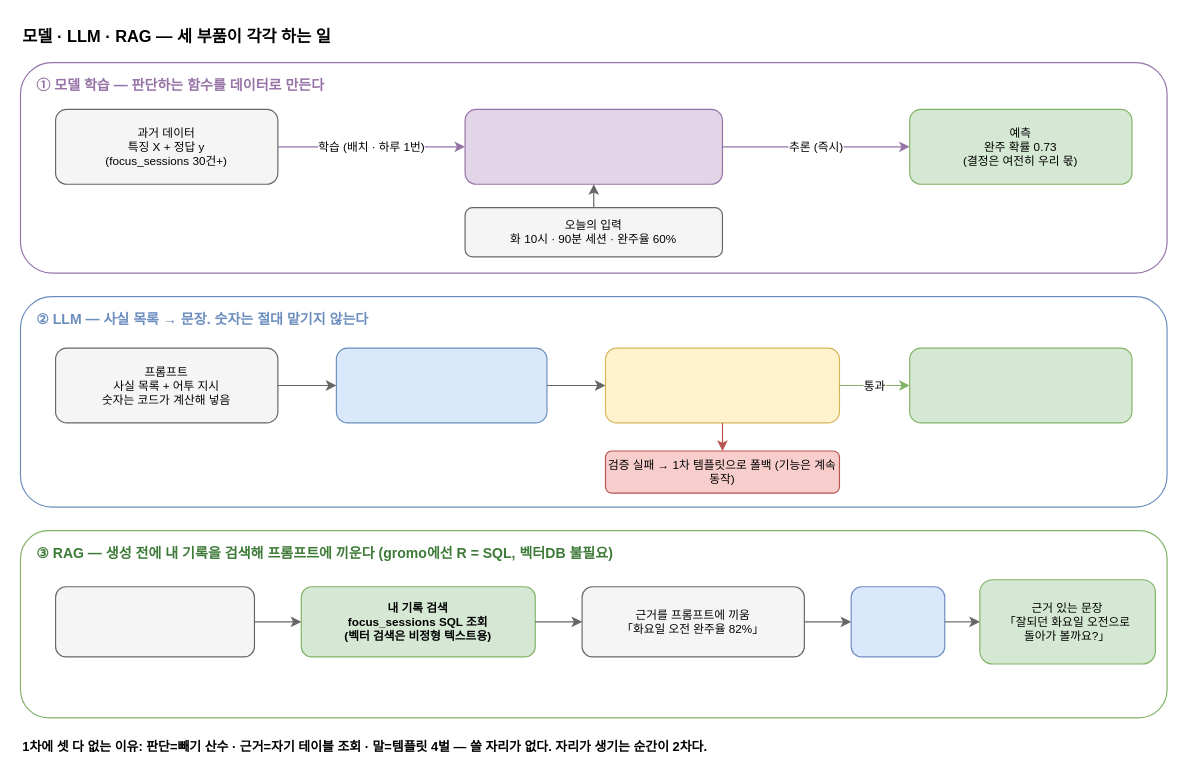
The diagram is 1188 pixels wide and 779 high, and some of its shapes have lost their labels. The shapes that lost their labels are listed below. From the top down, each one's centre as x and y in pixels, then its label:
At point (593, 146): "모델 f 「이 상황이면 완주 확률 몇?」 (로지스틱 회귀면 충분)".
At point (441, 385): "LLM 생성 (환각 위험 — 특히 숫자)".
At point (721, 385): "숫자 검증 게이트 원본 숫자가 그대로 있는가? (코드가 검사)".
At point (1020, 385): "발송 「지난주보다 47분 늘었어요…」".
At point (154, 621): "상황 「아침 루틴을 제안할 시점」".
At point (897, 621): "LLM".
